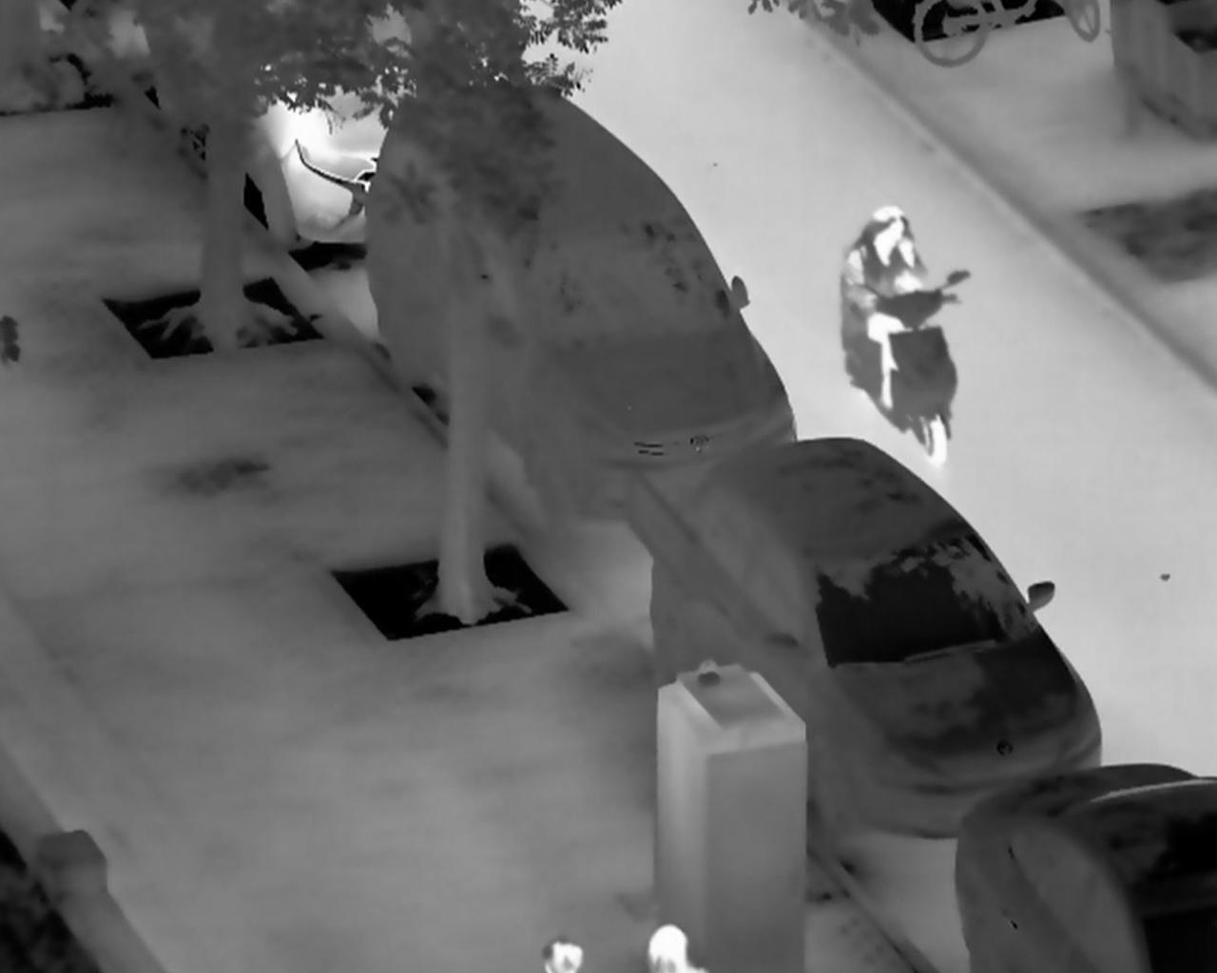person: (843, 205, 943, 410)
